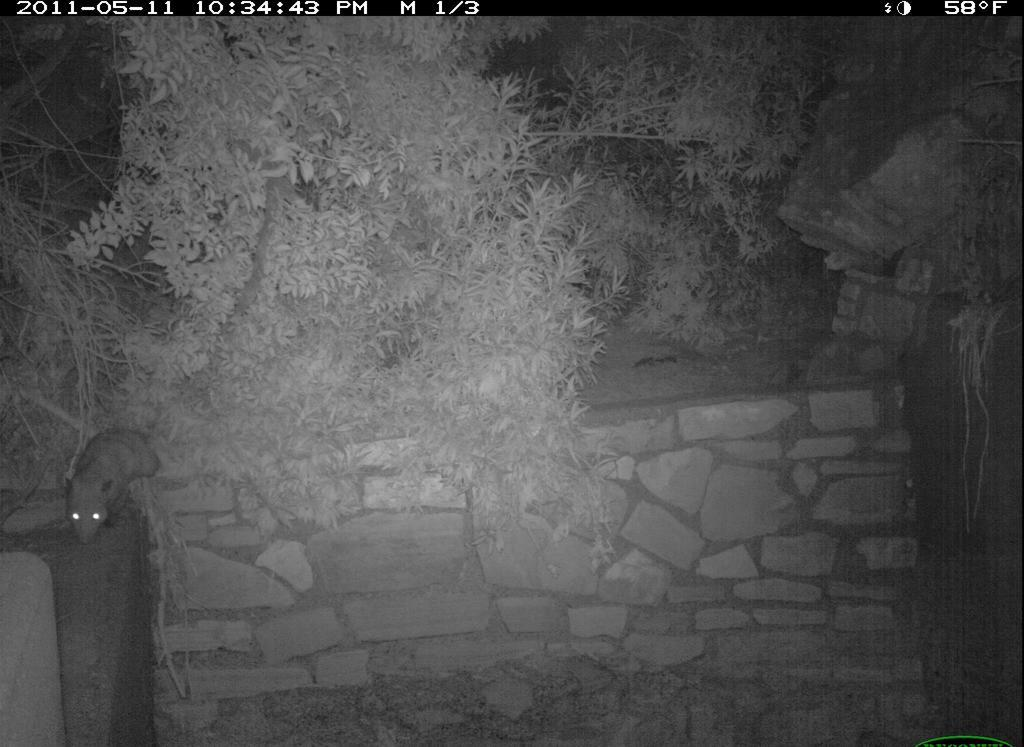opossum: (52, 414, 184, 557)
